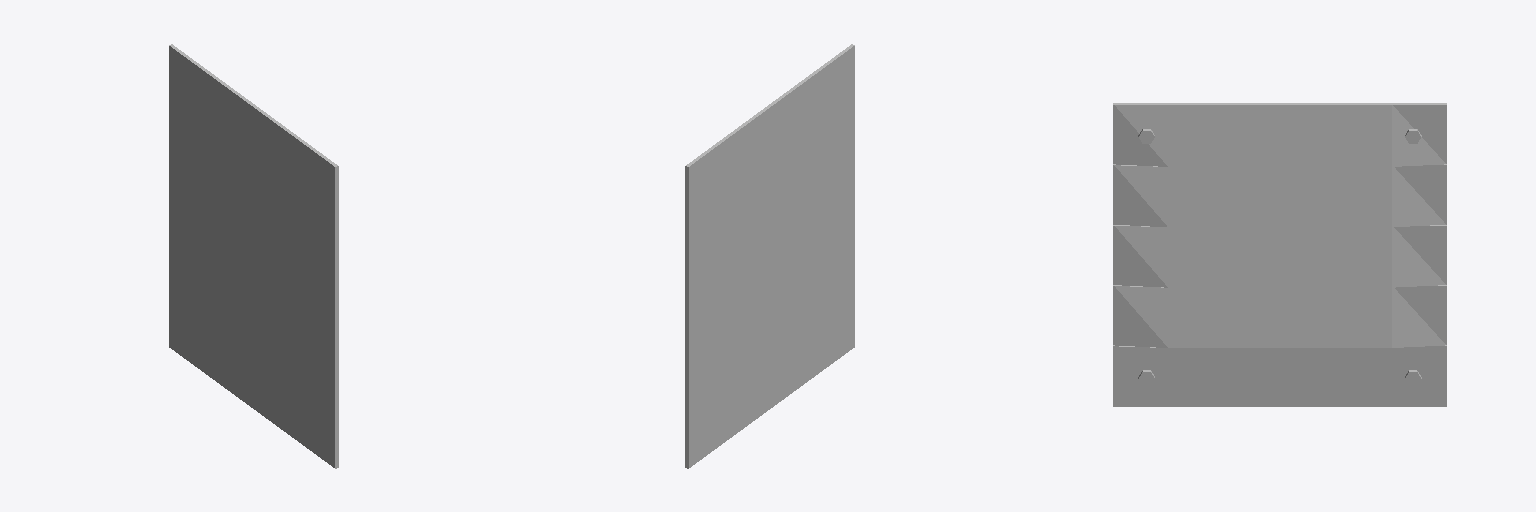
The model's file is TapaVentilacion.obj.
The picture shows the model from 3 angles: view 1: azimuth 30°, elevation 25°; view 2: azimuth 150°, elevation 25°; view 3: azimuth 270°, elevation 25°; orthographic projection.
Visible parts, largest first — view 1: Cubo; view 2: Cubo; view 3: Cubo.
Boxes of the visible parts, <box> form: Cubo: <box>169,44,338,468</box>; Cubo: <box>685,44,854,468</box>; Cubo: <box>1113,103,1446,406</box>.
Bounding box in the file's own units: 0.0224 × 0.8 × 0.8.